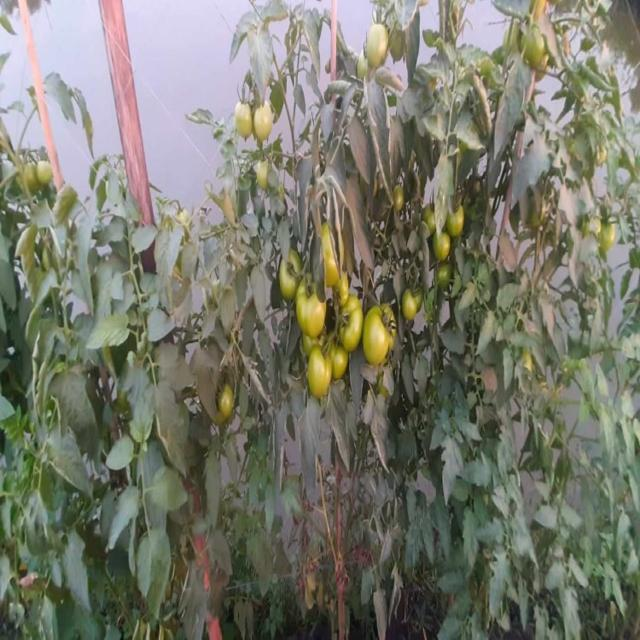tomato: (355, 300, 394, 369), (294, 273, 329, 339), (301, 349, 334, 404), (337, 296, 359, 349), (321, 229, 340, 289), (364, 24, 388, 71), (277, 255, 304, 295), (30, 158, 57, 197), (257, 104, 277, 152), (520, 33, 546, 68), (235, 101, 255, 143), (327, 347, 352, 380), (432, 236, 454, 270), (220, 385, 239, 423), (402, 295, 424, 326), (451, 206, 468, 243), (599, 223, 619, 254), (254, 158, 271, 192), (395, 185, 408, 216)
